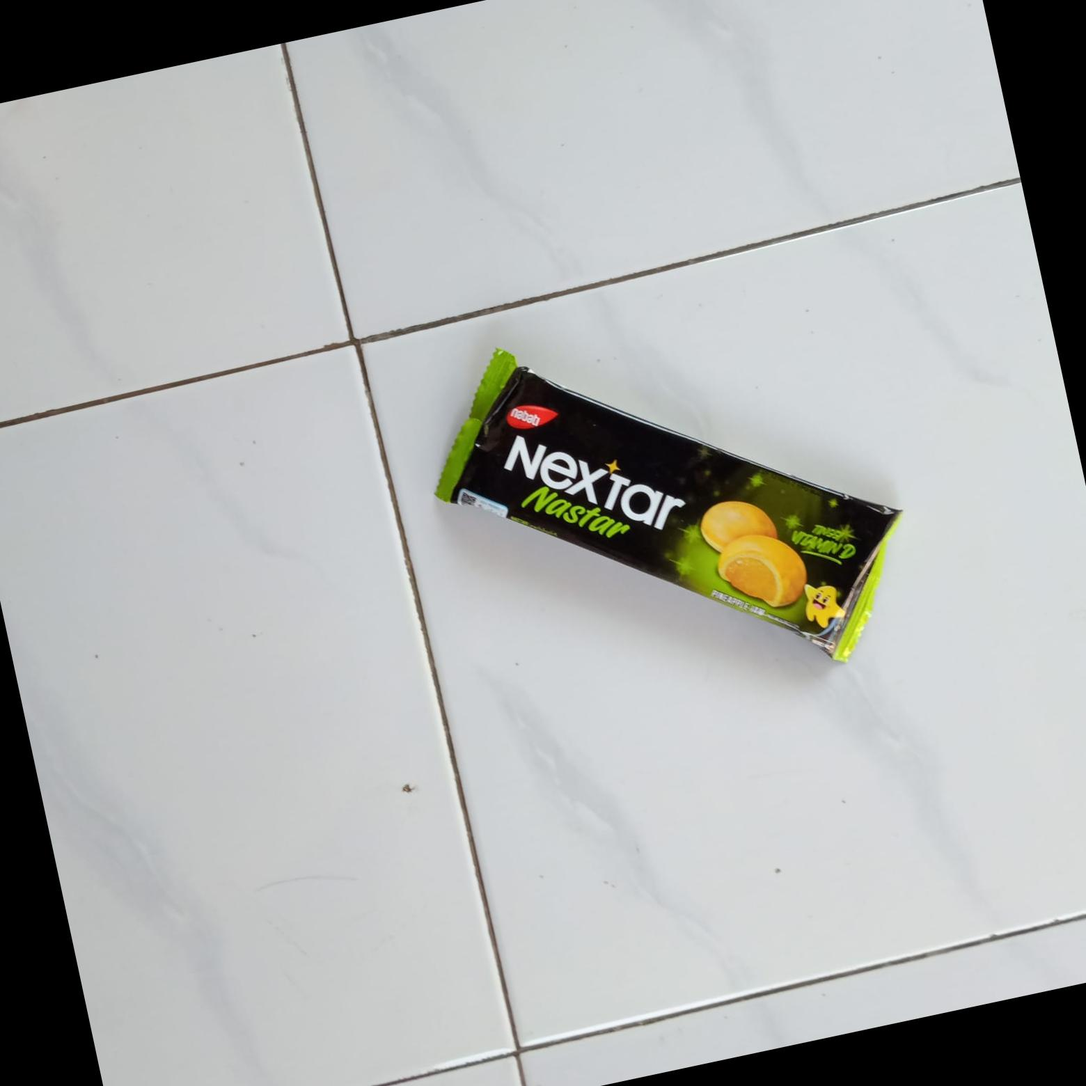Plastik: (410, 273, 932, 733)
